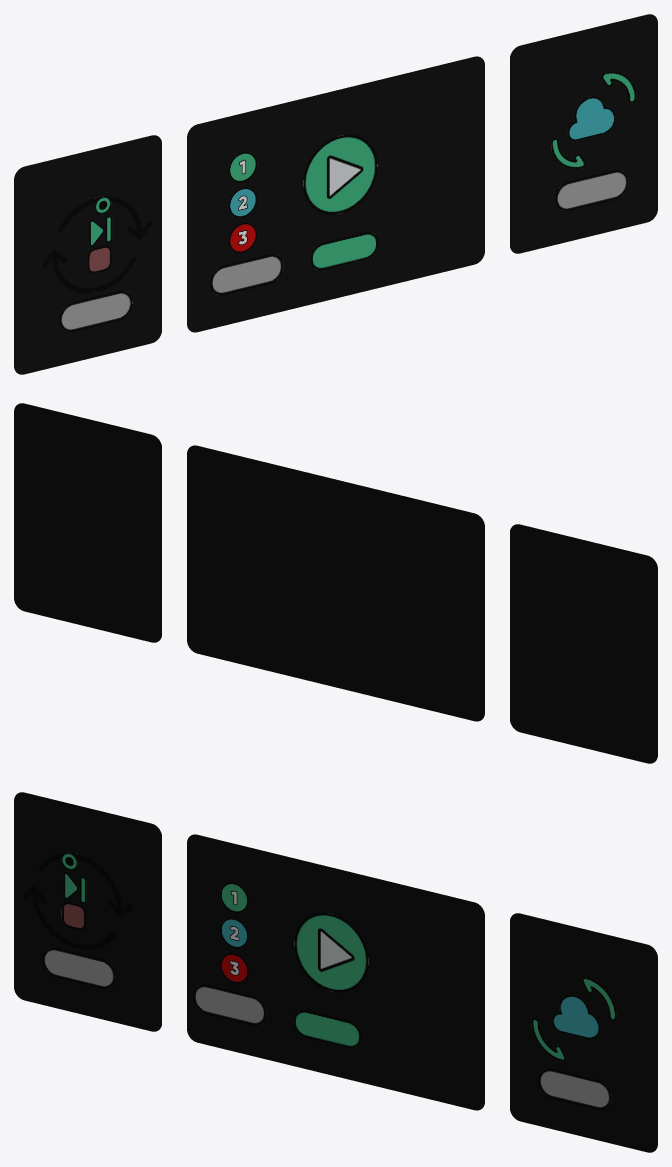
The model's file is Interface.fbx.
3 renders of one model, top to bottom at view 1: azimuth 30°, elevation 25°; view 2: azimuth 150°, elevation 25°; view 3: azimuth 330°, elevation 25°, orthographic.
Parts seen in each view (by area): view 1: Rectangle001, Border, ClickStart004, Start, ClickStart, Rotate, Change Skybox, CloudArrows, 2, 1, 3, Stop Rotacao (+1 smaller); view 2: Rectangle001, Border; view 3: Rectangle001, Border, ClickStart004, Start, ClickStart, Rotate, Change Skybox, CloudArrows, 2, 1, 3, Stop Rotacao (+1 smaller).
Boxes of the visible parts, x1=… form: Rectangle001: x1=16, y1=17, x2=655, y2=371; Border: x1=14, y1=14, x2=657, y2=374; ClickStart004: x1=59, y1=169, x2=628, y2=332; Start: x1=303, y1=134, x2=377, y2=214; ClickStart: x1=310, y1=232, x2=378, y2=270; Rotate: x1=41, y1=196, x2=152, y2=293; Change Skybox: x1=567, y1=96, x2=615, y2=141; CloudArrows: x1=551, y1=71, x2=636, y2=169; 2: x1=228, y1=187, x2=257, y2=217; 1: x1=228, y1=152, x2=257, y2=182; 3: x1=228, y1=222, x2=257, y2=253; Stop Rotacao: x1=87, y1=245, x2=111, y2=273; Rectangle001: x1=16, y1=406, x2=655, y2=760; Border: x1=14, y1=403, x2=657, y2=763; Rectangle001: x1=16, y1=795, x2=655, y2=1149; Border: x1=14, y1=792, x2=657, y2=1152; ClickStart004: x1=42, y1=947, x2=611, y2=1109; Start: x1=294, y1=912, x2=368, y2=992; ClickStart: x1=293, y1=1010, x2=361, y2=1048; Rotate: x1=22, y1=853, x2=132, y2=950; Change Skybox: x1=552, y1=994, x2=600, y2=1039; CloudArrows: x1=531, y1=976, x2=616, y2=1061; 2: x1=220, y1=917, x2=248, y2=948; 1: x1=220, y1=882, x2=248, y2=913; 3: x1=220, y1=953, x2=248, y2=983; Stop Rotacao: x1=61, y1=902, x2=85, y2=929.
Size of the model in its own units: 259 by 11.69 by 80.
Materials: 3 (1 with a texture image).
